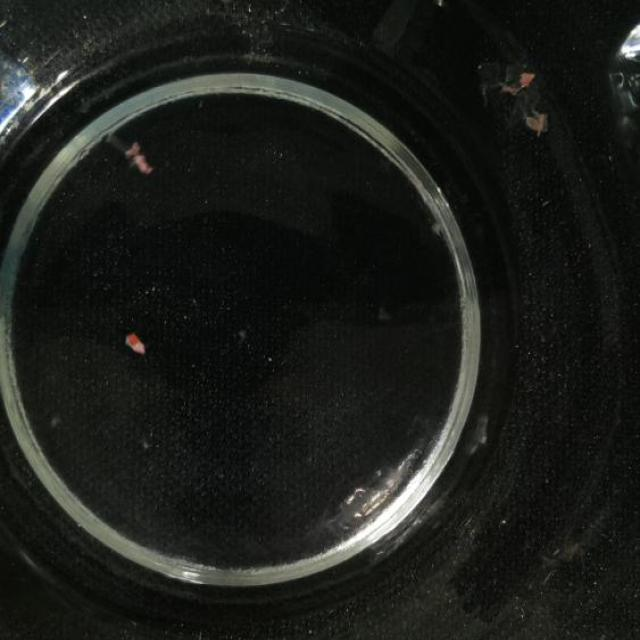fiber: (495, 66, 548, 140), (126, 142, 161, 176), (125, 331, 152, 358)
